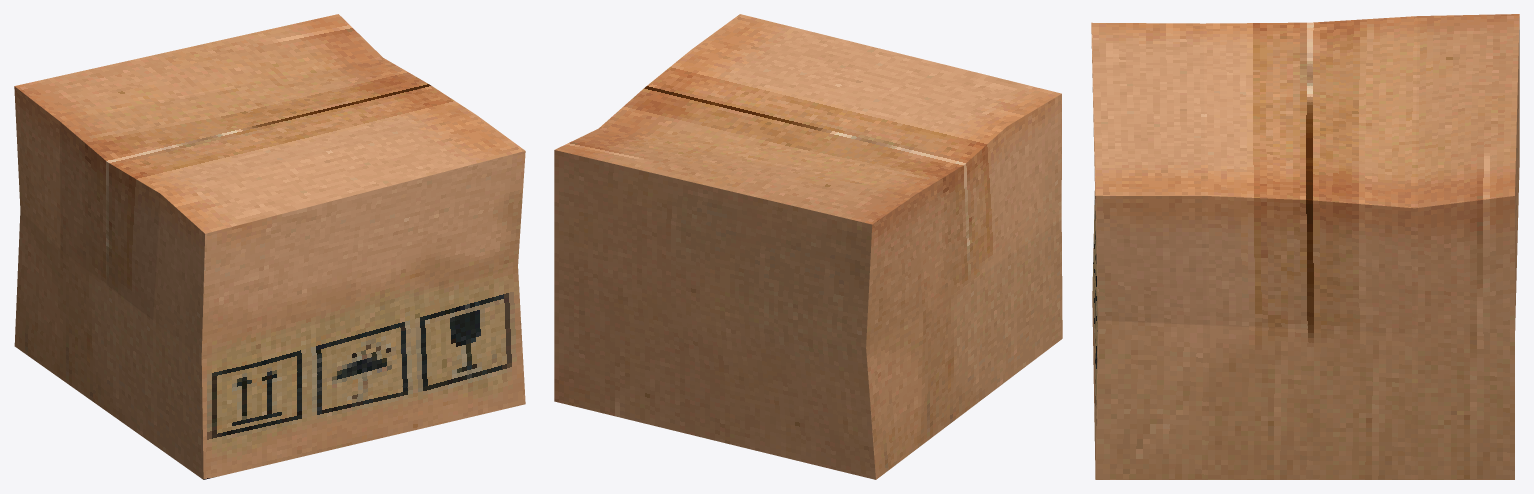
File: caixa_no_estilo_de_ps1.glb
3 views of the same model, side by side, from view 1: azimuth 30°, elevation 25°; view 2: azimuth 150°, elevation 25°; view 3: azimuth 270°, elevation 25° (orthographic). The views are drawn at different scales.
Visible parts, largest first — view 1: Object_2; view 2: Object_2; view 3: Object_2.
Boxes of the visible parts, bbox=[...] form: Object_2: bbox=[14, 14, 525, 479]; Object_2: bbox=[554, 14, 1062, 479]; Object_2: bbox=[1091, 14, 1519, 479].
Size of the model in its own units: 2.01 by 1.52 by 2.04.
Materials: 1 (1 with a texture image).
